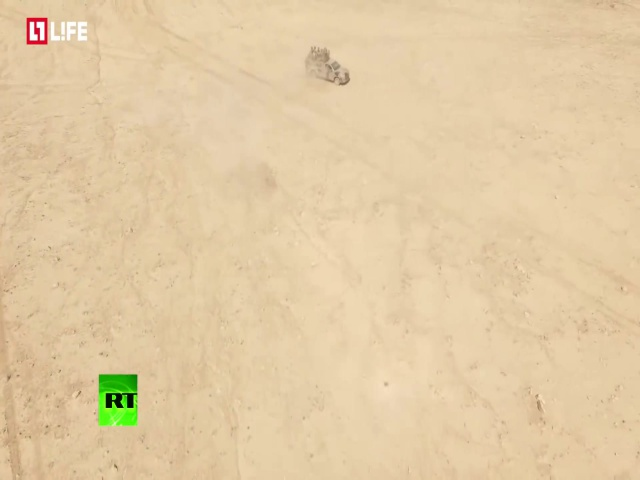vehicle: (303, 44, 351, 88)
